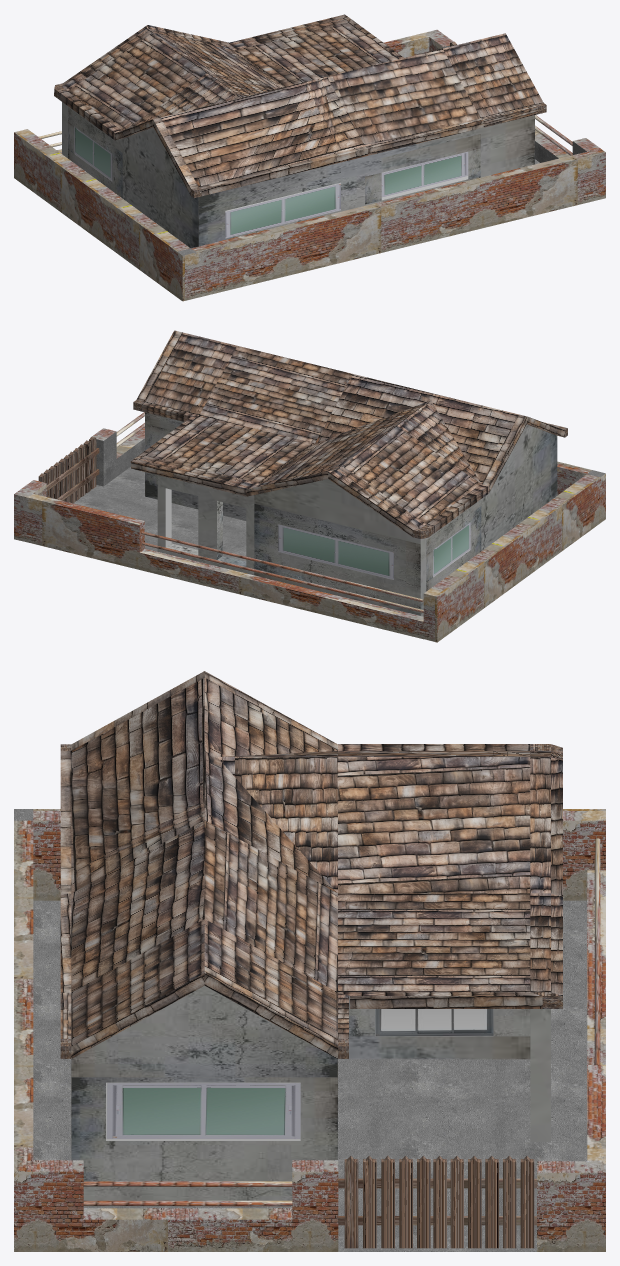
The model's file is Home_3.fbx.
3 renders of one model, top to bottom at view 1: azimuth 30°, elevation 25°; view 2: azimuth 150°, elevation 25°; view 3: azimuth 270°, elevation 25°, orthographic. The views are drawn at different scales.
Visible parts, largest first — view 1: Plane, Plane.001, Cylinder.002; view 2: Plane, Plane.001, Cube.001, Cylinder.002; view 3: Plane, Plane.001, Cube.001, Cylinder.002.
Boxes of the visible parts, x1,y1,x2,y2 form: Plane: (54,14,546,248); Plane.001: (14,29,605,301); Cylinder.002: (38,115,572,155); Plane: (130,330,567,616); Plane.001: (14,427,605,642); Cube.001: (38,436,99,503); Cylinder.002: (116,412,423,612); Plane: (60,671,562,1200); Plane.001: (14,809,605,1251); Cube.001: (338,1155,536,1248); Cylinder.002: (83,838,600,1206).
Size of the model in its own units: 1495 by 461 by 1032.
24 materials, 23 textured.
